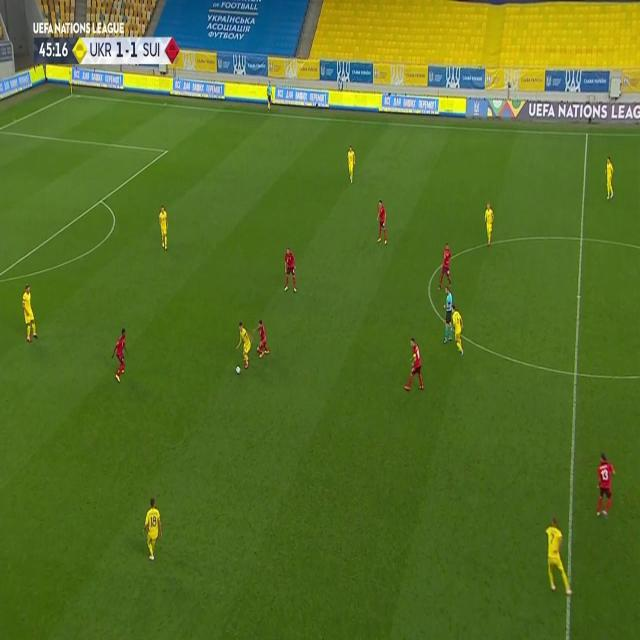ball: (235, 364, 241, 376)
player: (543, 516, 575, 598), (594, 451, 616, 518), (403, 338, 426, 393), (145, 498, 163, 562), (22, 284, 38, 342), (112, 327, 128, 385), (236, 321, 252, 369), (438, 242, 452, 292), (451, 305, 465, 355), (283, 247, 297, 294), (376, 199, 389, 246), (442, 286, 452, 344), (256, 319, 270, 360), (604, 156, 614, 201), (484, 203, 494, 248), (158, 205, 168, 250), (348, 145, 356, 185), (266, 80, 274, 114)
